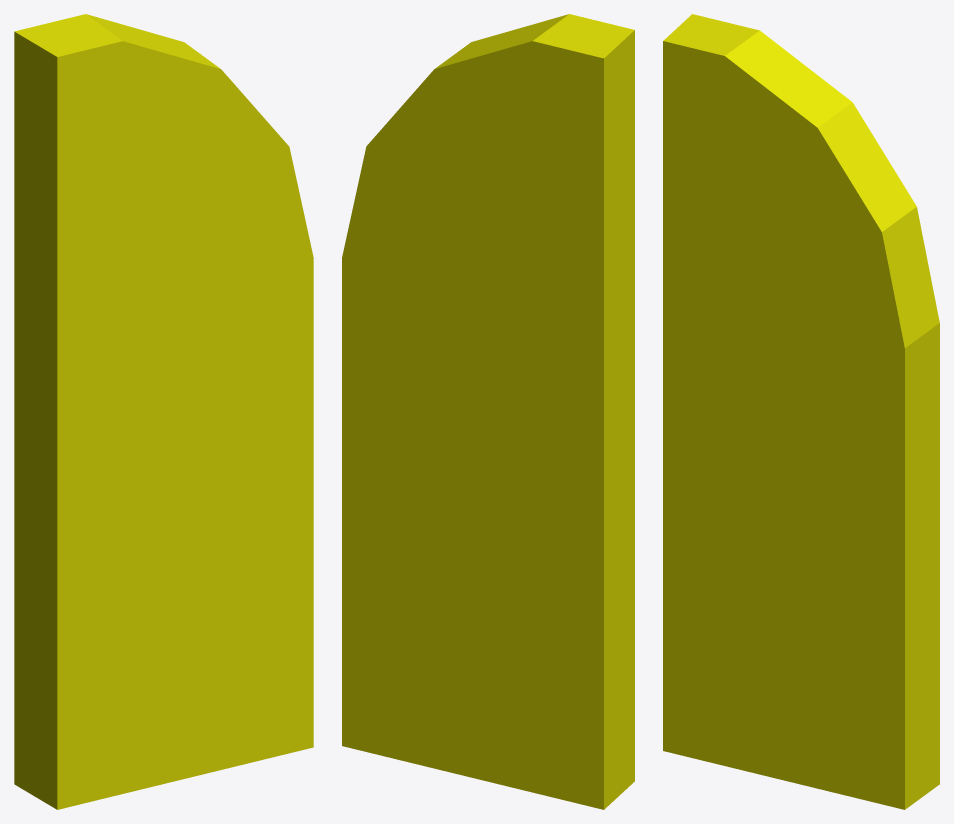
3 renders of one model, left to right at view 1: azimuth 30°, elevation 25°; view 2: azimuth 150°, elevation 25°; view 3: azimuth 330°, elevation 25°, orthographic. The views are drawn at different scales.
Parts seen in each view (by area): view 1: door_L; view 2: door_L; view 3: door_L.
Boxes of the visible parts, left/top/right/bottom form: door_L: left=14, top=14, right=313, bottom=809; door_L: left=342, top=14, right=634, bottom=809; door_L: left=663, top=14, right=939, bottom=809.
Bounding box in the file's own units: 1.02 × 2.8 × 0.2495.
1 material, 1 textured.
